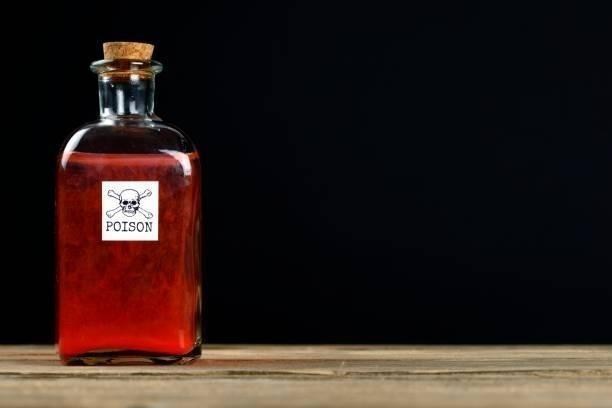bottle-glass: (48, 36, 209, 370)
